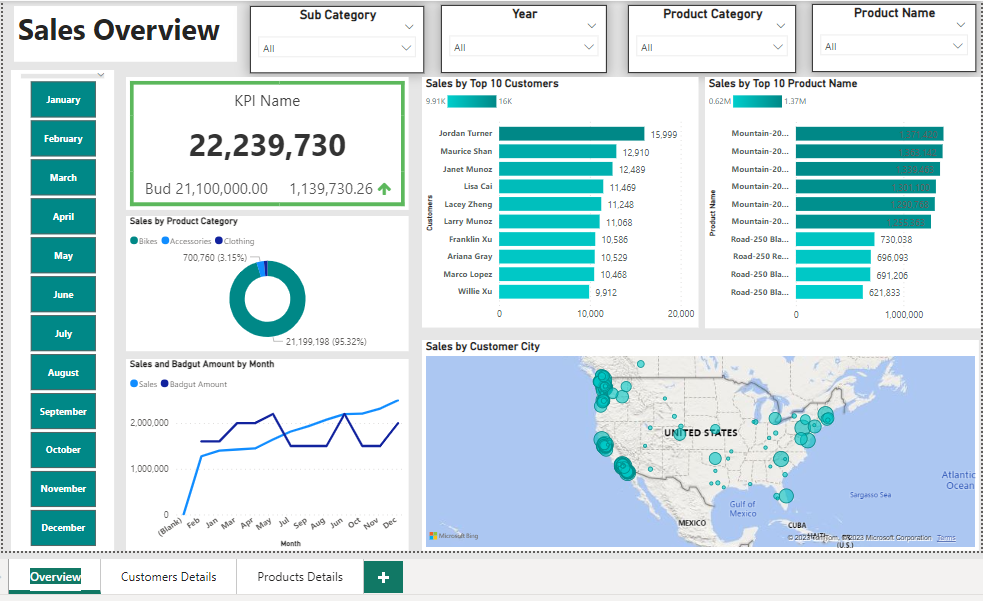

The dashboard page shown, as its layout file describes it:
{"tool":"powerbi","page":{"name":"Overview","canvas":[1280,720],"ordinal":0},"visuals":[{"type":"textbox","box":[14.4,6.5,291.9,73.3],"z":0},{"type":"slicer","title":"Year","fields":{"Values":["DIM_Calendar.Date.Variation.Date Hierarchy.Year"]},"box":[573.9,5.5,217.5,89.5],"z":2000},{"type":"slicer","title":"Product Name","fields":{"Values":["DIM_Products.Product Name"]},"box":[1058.4,4.1,214.7,89.5],"z":2500},{"type":"slicer","title":"Product Category","fields":{"Values":["DIM_Products.Product Category"]},"box":[817.5,5.5,220.2,89.5],"z":3000},{"type":"slicer","title":"Sub Category","fields":{"Values":["DIM_Products.Sub Category"]},"box":[323.4,6.9,228.5,88.1],"z":4000},{"type":"slicer","fields":{"Values":["DIM_Calendar.Date.Variation.Date Hierarchy.Month"]},"box":[10.5,90.3,134.8,629.7],"z":5000},{"type":"BBED0A4D4D8D44CE93CF2DAFADEE466C","fields":{"actual":["Key Measures.Sales"],"target1":["Key Measures.Badgut Amount"],"target2":["Key Measures.Sales / Budget"]},"box":[161,99.5,370.5,174.1],"z":6000},{"type":"donutChart","fields":{"Category":["DIM_Products.Product Category"],"Y":["Key Measures.Sales"]},"box":[161,281.5,370.5,176.7],"z":7000},{"type":"lineChart","fields":{"Y":["Key Measures.Sales","Key Measures.Badgut Amount"],"Category":["DIM_Calendar.MonthShort"]},"box":[161,468.7,370.5,251.3],"z":8000},{"type":"barChart","title":"Sales by Top 10 Customers","fields":{"Y":["Key Measures.Sales"],"Category":["DIM_Customers.Full Name"]},"box":[548.3,100,361.7,328.3],"z":9000},{"type":"barChart","title":"Sales by Top 10 Product Name","fields":{"Y":["Key Measures.Sales"],"Category":["DIM_Products.Product Name"]},"box":[919,99.5,361.3,328.6],"z":10000},{"type":"map","fields":{"Category":["DIM_Customers.Customer City"],"Size":["Key Measures.Sales"]},"box":[548.6,444.3,728.6,275.7],"z":11000}]}

Visuals, with their boxes on the page's 1280x720 design canvas (x1, y1, x2, y2). These are canvas units, not pixel positions in the 983x601 screenshot, which may show the page scaled, cropped or inside an application window:
textbox: rect(14, 6, 306, 80)
"Year" slicer: rect(574, 6, 791, 95)
"Product Name" slicer: rect(1058, 4, 1273, 94)
"Product Category" slicer: rect(818, 6, 1038, 95)
"Sub Category" slicer: rect(323, 7, 552, 95)
slicer - DIM_Calendar.Date.Variation.Date Hierarchy.Month: rect(10, 90, 145, 720)
BBED0A4D4D8D44CE93CF2DAFADEE466C - Key Measures.Sales x Key Measures.Badgut Amount: rect(161, 100, 532, 274)
donutChart - DIM_Products.Product Category x Key Measures.Sales: rect(161, 282, 532, 458)
lineChart - Key Measures.Sales x Key Measures.Badgut Amount: rect(161, 469, 532, 720)
"Sales by Top 10 Customers" barChart: rect(548, 100, 910, 428)
"Sales by Top 10 Product Name" barChart: rect(919, 100, 1280, 428)
map - DIM_Customers.Customer City x Key Measures.Sales: rect(549, 444, 1277, 720)
